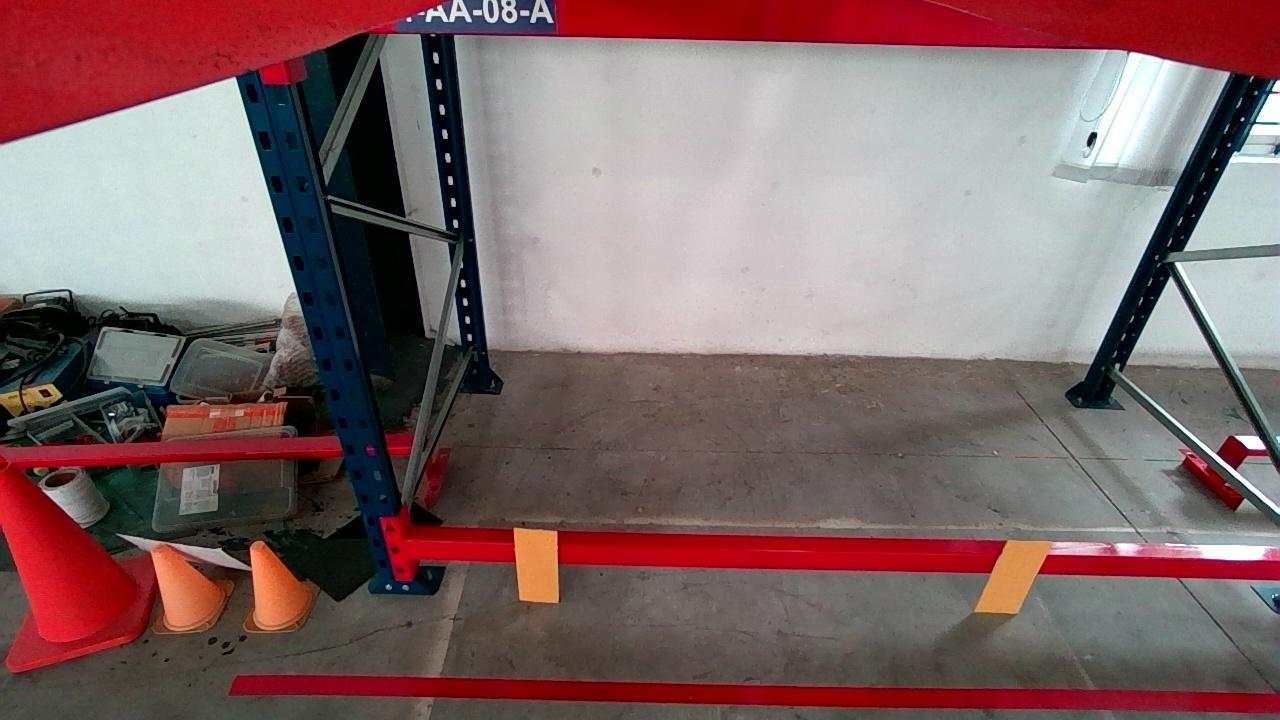h_rack: (373, 1, 1095, 45), (406, 540, 1280, 576)
orange_strip: (975, 538, 1056, 614), (516, 529, 556, 601)
red_line: (228, 674, 1280, 710)
